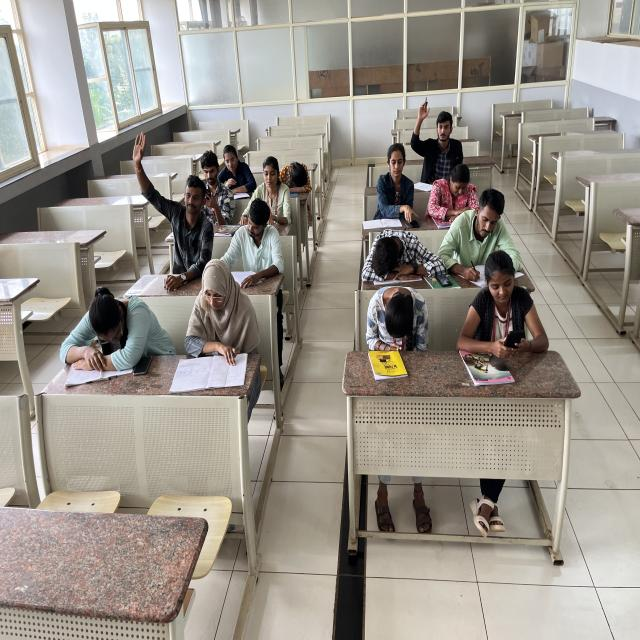Hand Rising: (130, 128, 212, 245), (408, 95, 466, 182)
Reading: (184, 260, 262, 400), (223, 198, 280, 288), (219, 145, 261, 205)
Sleeping: (69, 262, 159, 366), (366, 288, 436, 350), (357, 229, 434, 285), (280, 159, 314, 192)
Using Phone: (467, 264, 544, 349)
Writing: (440, 186, 512, 278)
